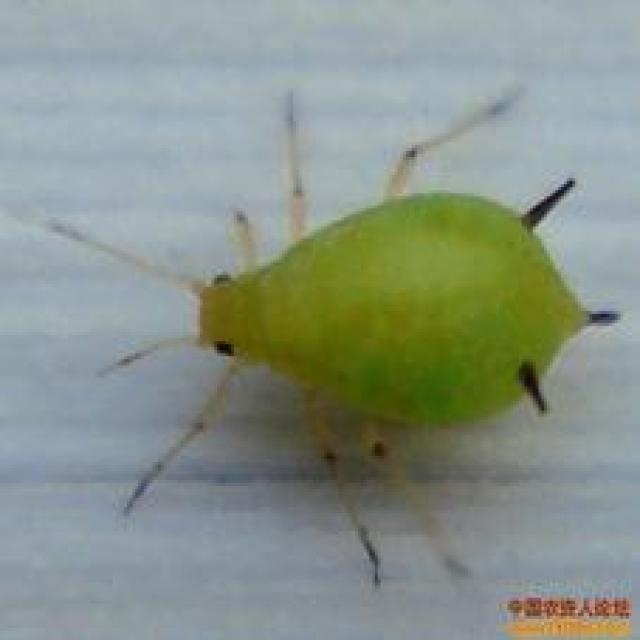Aphids: (38, 89, 621, 554)
